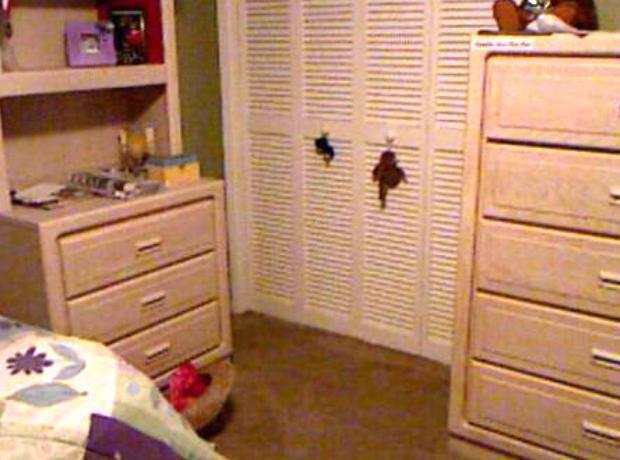Armario: (221, 0, 528, 379), (443, 27, 620, 460)
